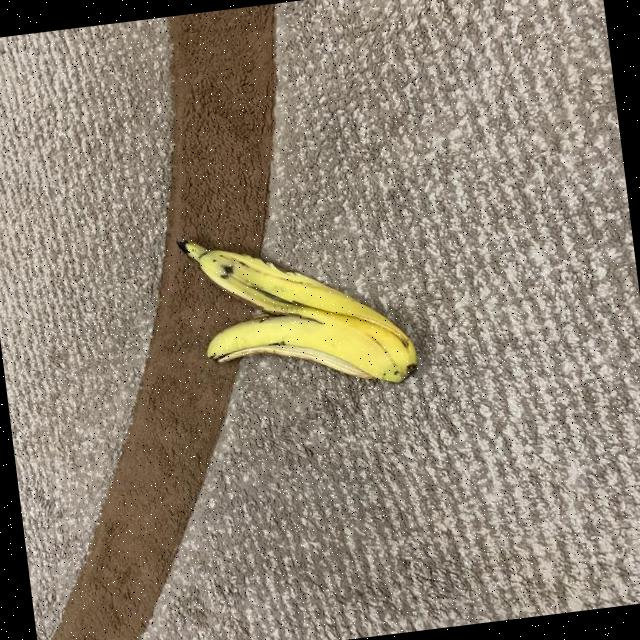banana-peel: (174, 210, 420, 408)
